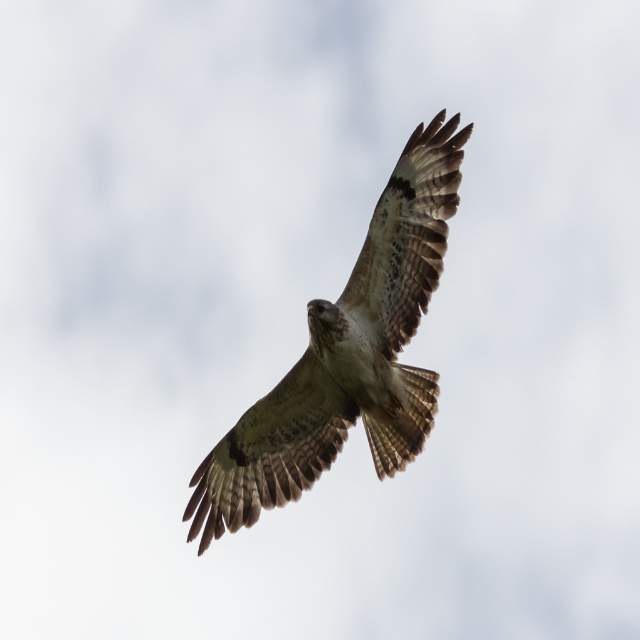Eagle: (179, 107, 473, 556)
